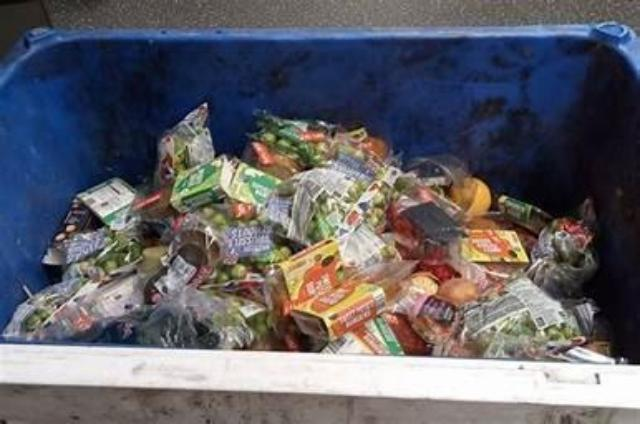Garbage: (9, 99, 618, 362)
Plastic_Bag: (4, 262, 144, 341), (460, 276, 580, 359), (136, 289, 255, 348), (526, 218, 599, 298), (287, 167, 357, 244), (222, 225, 274, 265), (339, 225, 385, 269)
